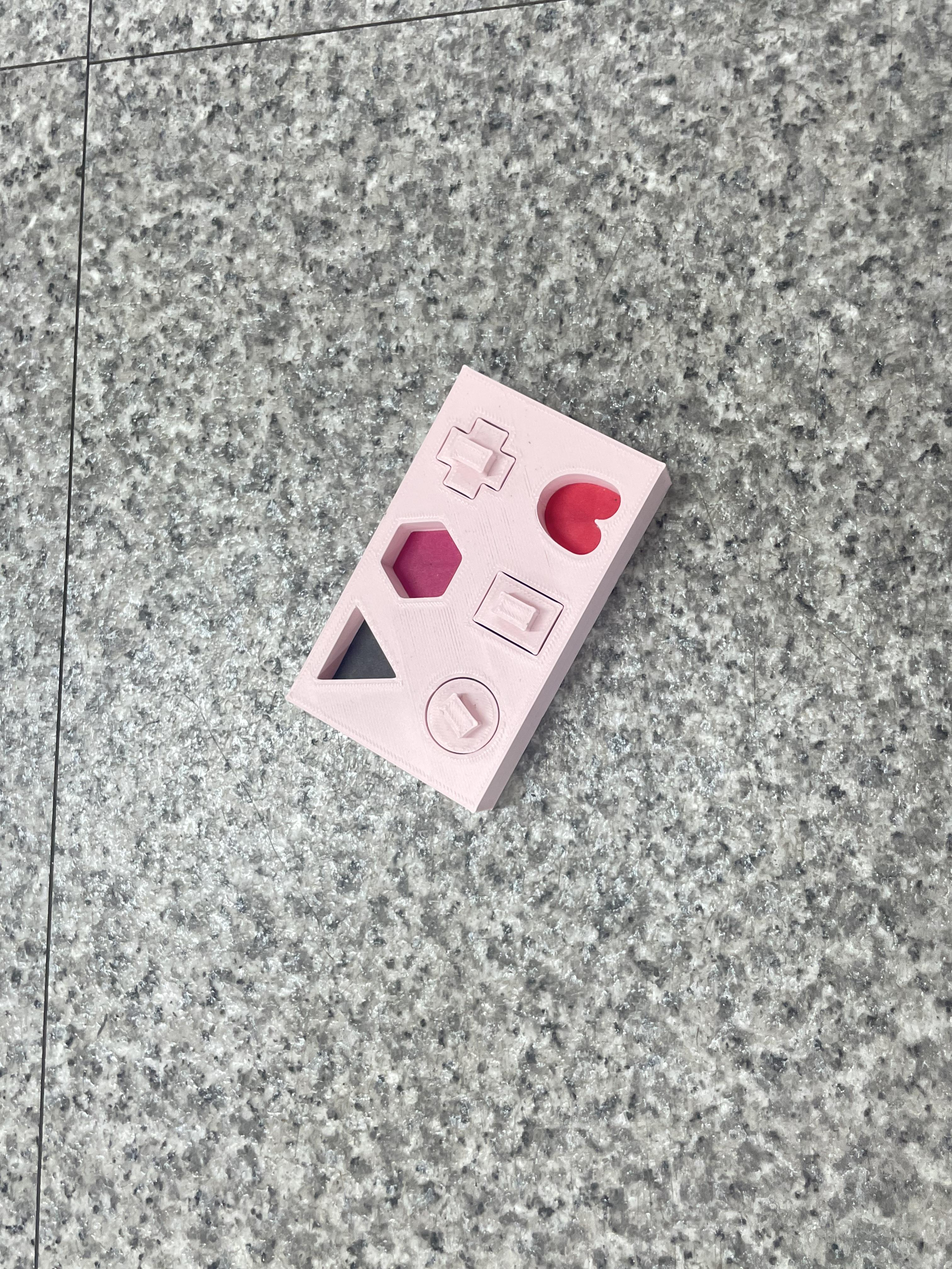unsolved: (277, 328, 679, 825)
